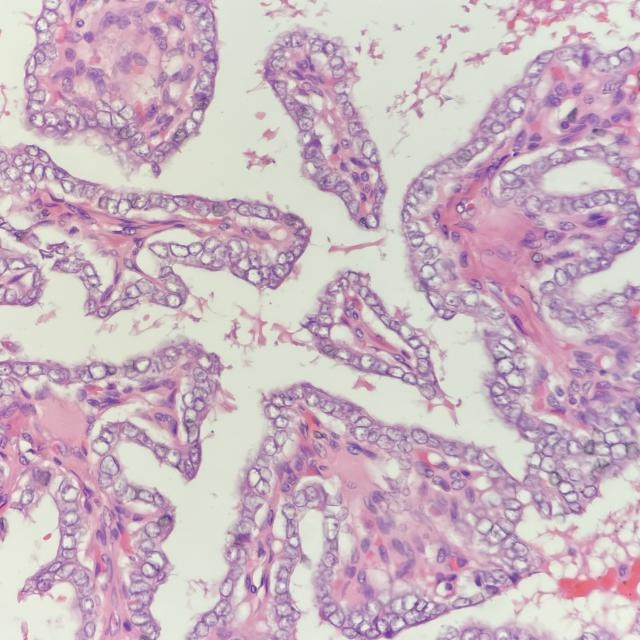TC: (236, 262, 271, 290), (94, 452, 126, 481), (241, 460, 268, 493), (82, 356, 112, 385), (415, 259, 446, 286), (130, 349, 157, 380), (356, 207, 385, 234), (483, 376, 514, 400), (401, 225, 429, 251), (43, 362, 69, 389), (415, 379, 444, 403), (6, 355, 31, 382), (354, 351, 382, 375), (189, 361, 219, 383), (347, 424, 375, 447), (133, 273, 156, 301), (289, 486, 311, 514), (164, 192, 192, 214), (257, 402, 282, 426), (440, 440, 468, 461), (176, 405, 204, 426), (540, 452, 563, 477), (164, 442, 183, 472), (425, 284, 445, 312), (497, 494, 525, 514), (408, 425, 430, 448), (486, 343, 514, 361), (188, 443, 208, 465), (555, 259, 568, 291), (169, 239, 190, 258)
